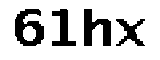1: (48, 8, 79, 51)
6: (8, 5, 47, 53)
h: (81, 5, 114, 54)
x: (112, 16, 149, 51)
